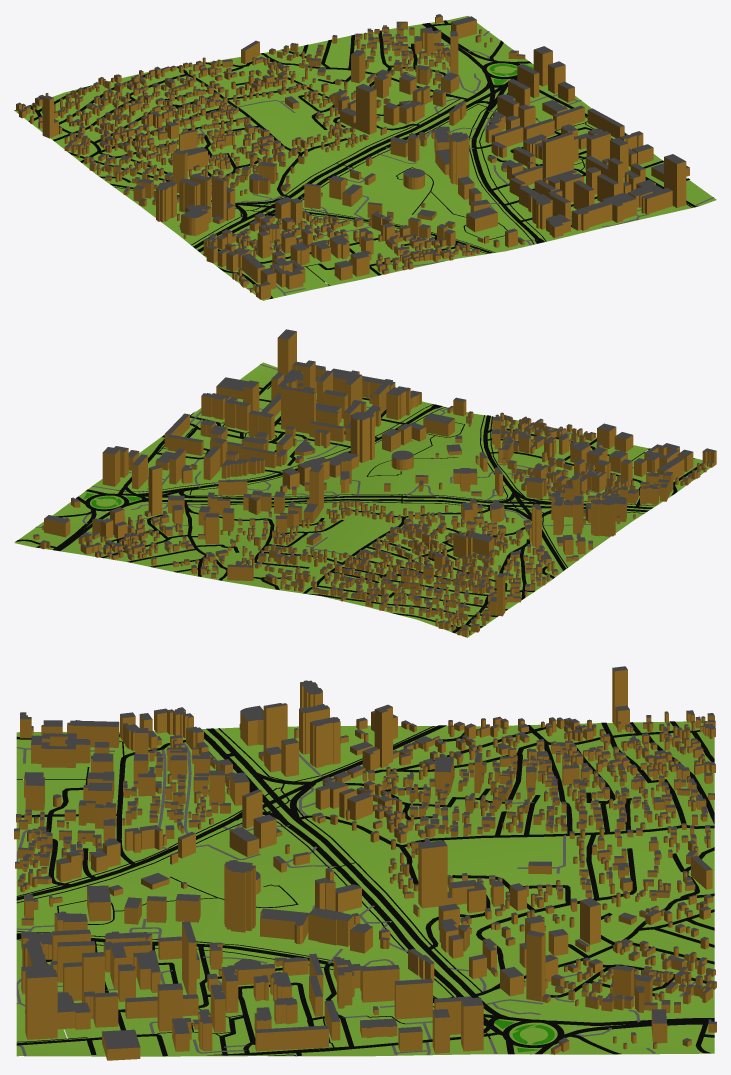
Rendered from tile_04_05.glb.
The picture shows the model from 3 angles, top to bottom: view 1: azimuth 30°, elevation 25°; view 2: azimuth 150°, elevation 25°; view 3: azimuth 270°, elevation 25°; orthographic projection. The views are drawn at different scales.
Parts seen in each view (by area): view 1: Ub_small.osm_buildings_04_05, Terrain_04_05, Ub_small.osm_roads_residential_04_05, Ub_small.osm_roads_primary_04_05, Ub_small.osm_roads_service_04_05, Ub_small.osm_paths_footway_04_05, Ub_small.osm_roads_secondary_04_05; view 2: Ub_small.osm_buildings_04_05, Terrain_04_05, Ub_small.osm_roads_residential_04_05, Ub_small.osm_roads_primary_04_05, Ub_small.osm_paths_footway_04_05, Ub_small.osm_roads_service_04_05, Ub_small.osm_roads_secondary_04_05; view 3: Ub_small.osm_buildings_04_05, Terrain_04_05, Ub_small.osm_roads_residential_04_05, Ub_small.osm_roads_primary_04_05, Ub_small.osm_roads_service_04_05, Ub_small.osm_paths_footway_04_05, Ub_small.osm_roads_secondary_04_05, Ub_small.osm_paths_cycleway_04_05.
Boxes of the visible parts, <box> form: Ub_small.osm_buildings_04_05: <box>16,14,689,299</box>; Terrain_04_05: <box>14,16,716,300</box>; Ub_small.osm_roads_residential_04_05: <box>14,16,696,298</box>; Ub_small.osm_roads_primary_04_05: <box>193,23,544,251</box>; Ub_small.osm_roads_service_04_05: <box>178,31,713,295</box>; Ub_small.osm_paths_footway_04_05: <box>114,93,692,285</box>; Ub_small.osm_roads_secondary_04_05: <box>110,78,626,253</box>; Ub_small.osm_buildings_04_05: <box>33,329,716,636</box>; Terrain_04_05: <box>14,362,710,637</box>; Ub_small.osm_roads_residential_04_05: <box>15,380,700,637</box>; Ub_small.osm_roads_primary_04_05: <box>53,404,653,550</box>; Ub_small.osm_paths_footway_04_05: <box>116,385,656,567</box>; Ub_small.osm_roads_service_04_05: <box>35,364,700,560</box>; Ub_small.osm_roads_secondary_04_05: <box>118,412,566,570</box>; Ub_small.osm_buildings_04_05: <box>14,666,716,1060</box>; Terrain_04_05: <box>16,721,714,1056</box>; Ub_small.osm_roads_residential_04_05: <box>16,721,714,1056</box>; Ub_small.osm_roads_primary_04_05: <box>16,728,714,1054</box>; Ub_small.osm_roads_service_04_05: <box>16,742,695,1055</box>; Ub_small.osm_paths_footway_04_05: <box>16,726,490,1056</box>; Ub_small.osm_roads_secondary_04_05: <box>16,725,500,1055</box>; Ub_small.osm_paths_cycleway_04_05: <box>218,728,481,993</box>.
Bounding box in the file's own units: 996 × 119 × 936.
